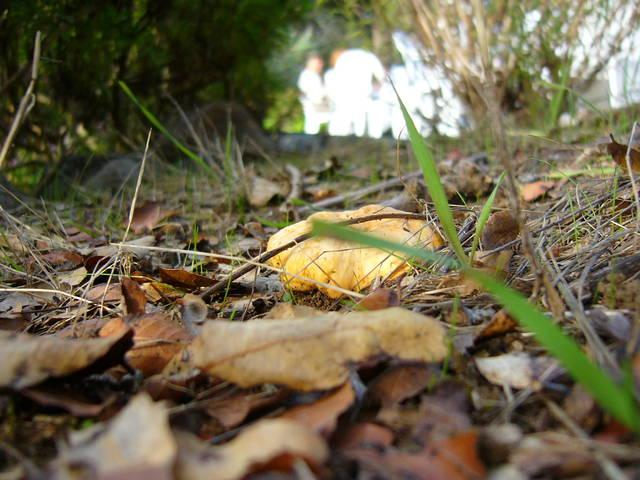Edible Mushroom: (264, 203, 445, 299)
